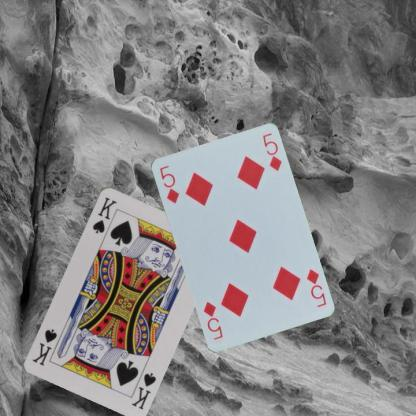5d: (303, 266, 327, 308), (157, 162, 180, 204)
Ks: (90, 193, 118, 234), (129, 369, 157, 410)
